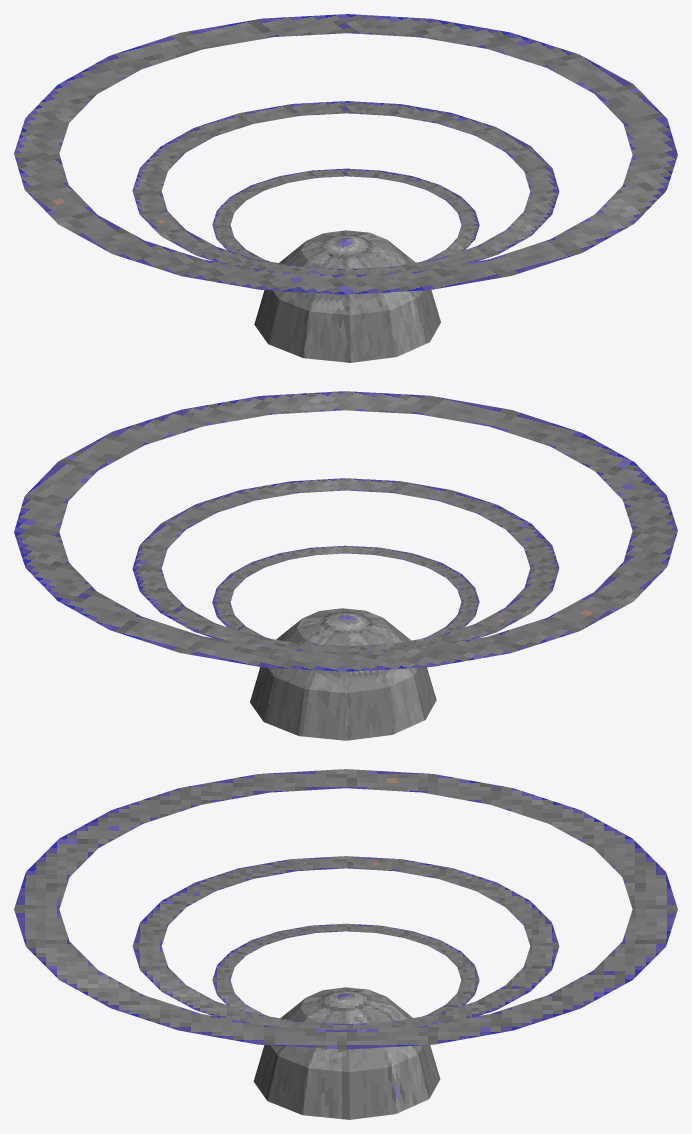
File: jump-pnt.obj
3 renders of one model, top to bottom at view 1: azimuth 30°, elevation 25°; view 2: azimuth 150°, elevation 25°; view 3: azimuth 270°, elevation 25°, orthographic.
Bounding box in the file's own units: 13.96 × 3.94 × 13.96.
Materials: 2 (2 with a texture image).
